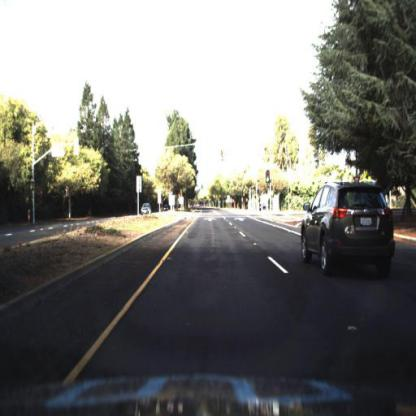car: (302, 183, 396, 281), (139, 200, 155, 220)
trafficLight-Green: (265, 170, 272, 188)
